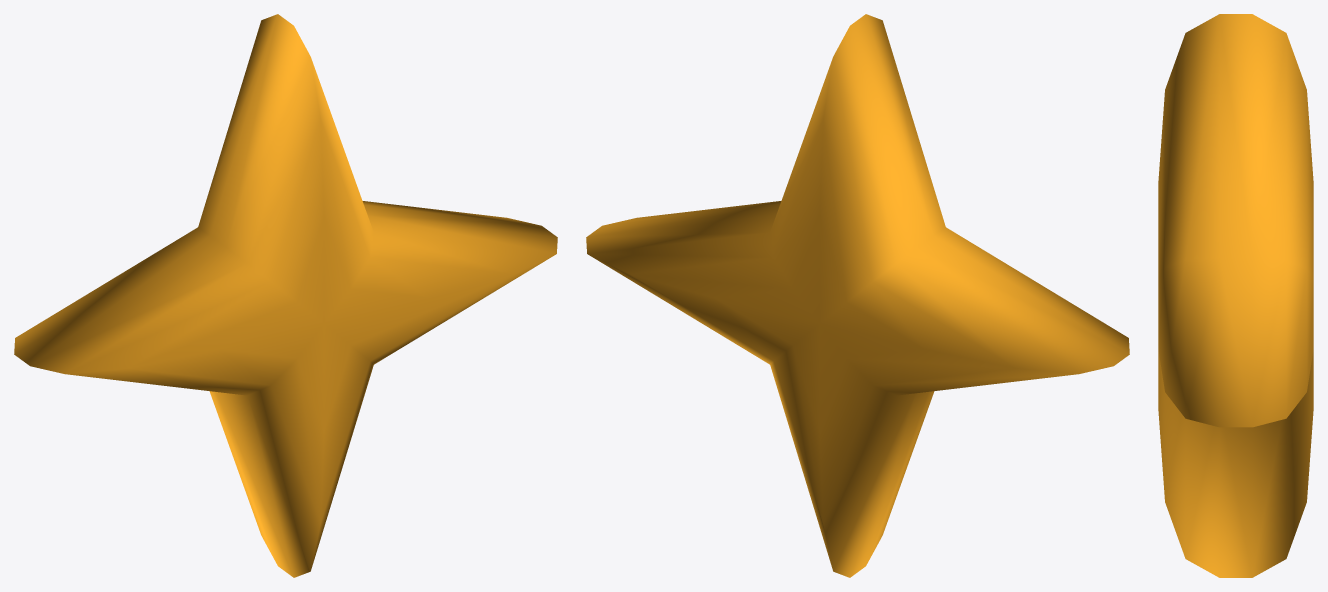
Rendered from 04-STAR-04.fbx.
3 views of the same model, side by side, from view 1: azimuth 30°, elevation 25°; view 2: azimuth 150°, elevation 25°; view 3: azimuth 270°, elevation 25° (orthographic). The views are drawn at different scales.
Parts seen in each view (by area): view 1: 04-STAR-04; view 2: 04-STAR-04; view 3: 04-STAR-04.
Boxes of the visible parts, left/top/right/bottom form: 04-STAR-04: left=14, top=14, right=557, bottom=577; 04-STAR-04: left=586, top=14, right=1129, bottom=577; 04-STAR-04: left=1158, top=14, right=1313, bottom=577.
Bounding box in the file's own units: 400 × 400 × 100.
